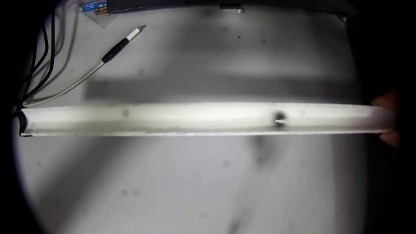gangzhu: (269, 109, 287, 128)
